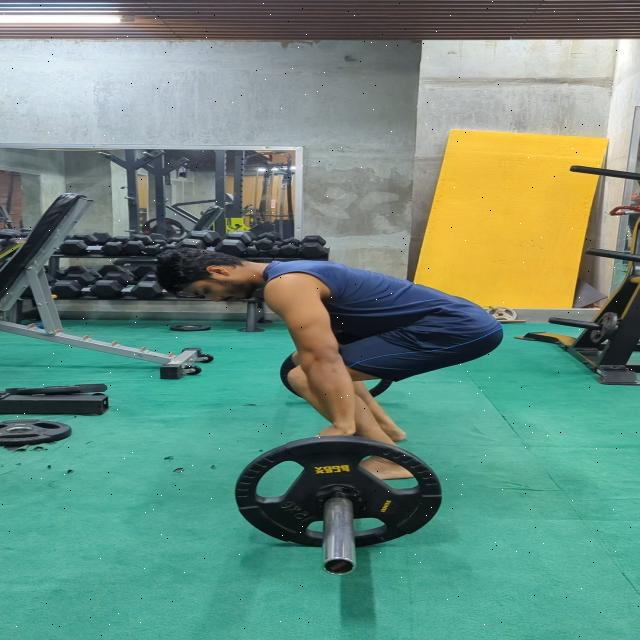Normal_Deadlifts: (150, 248, 507, 481)
